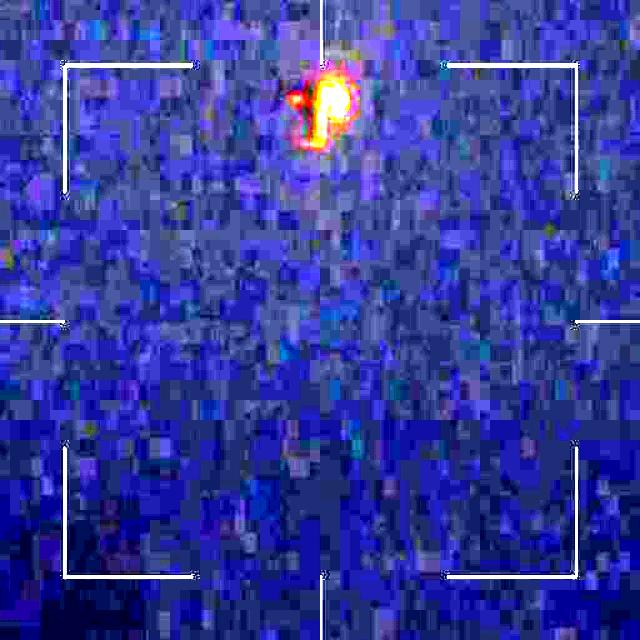bird: (278, 79, 354, 148)
